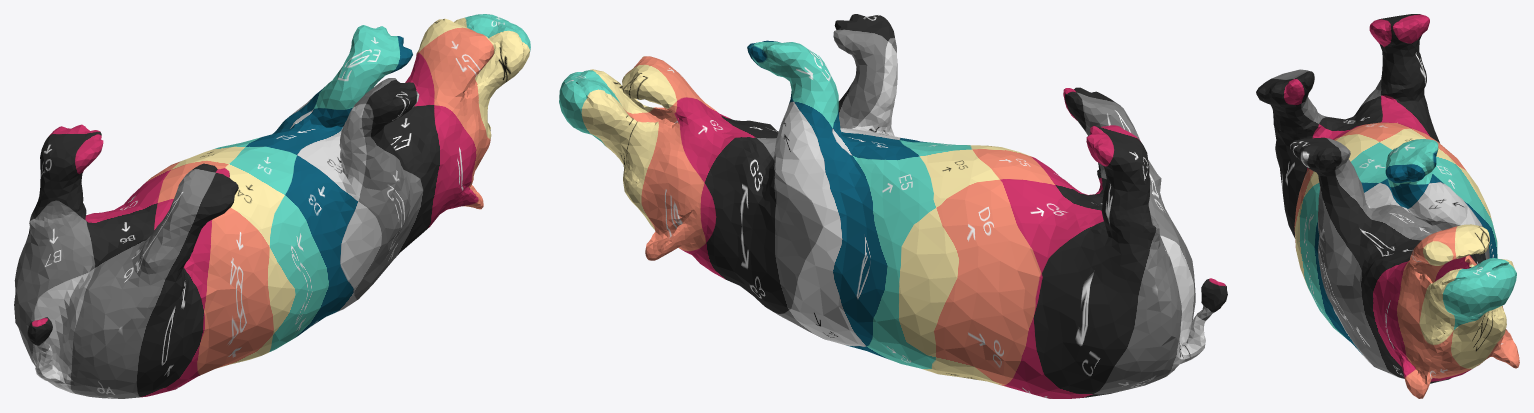
File: hippo_03-hippo_01.obj
3 renders of one model, left to right at view 1: azimuth 30°, elevation 25°; view 2: azimuth 150°, elevation 25°; view 3: azimuth 270°, elevation 25°, orthographic. The views are drawn at different scales.
Visible parts, largest first — view 1: hippo_03-hippo_01_export; view 2: hippo_03-hippo_01_export; view 3: hippo_03-hippo_01_export.
Part boxes in pixels (box(x1,y1,x2,y2)): hippo_03-hippo_01_export: box(14, 14, 530, 398); hippo_03-hippo_01_export: box(559, 14, 1227, 398); hippo_03-hippo_01_export: box(1256, 14, 1519, 398).
Size of the model in its own units: 0.982 by 0.4752 by 0.402.
